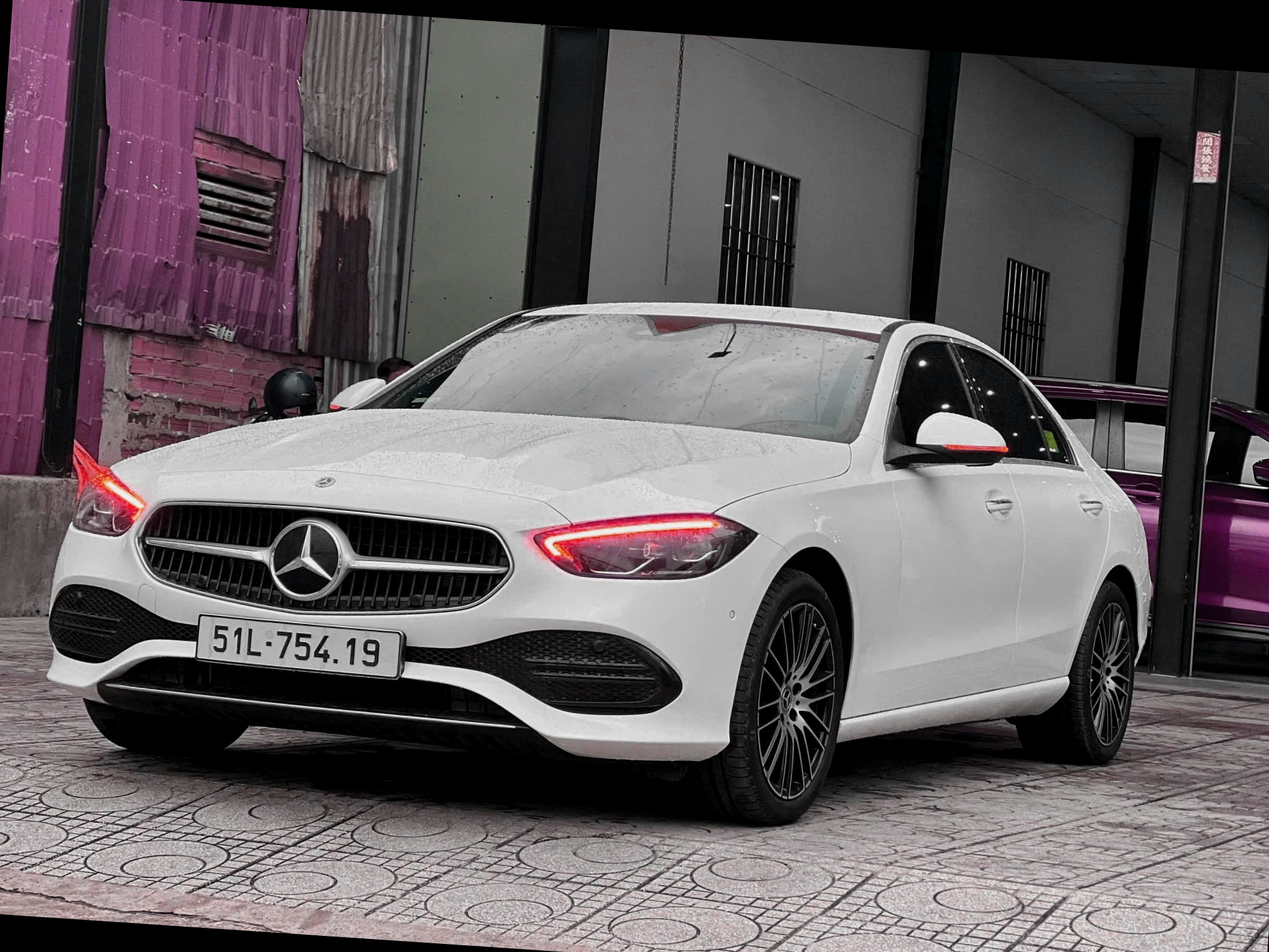Bien-so: (231, 612, 435, 680)
